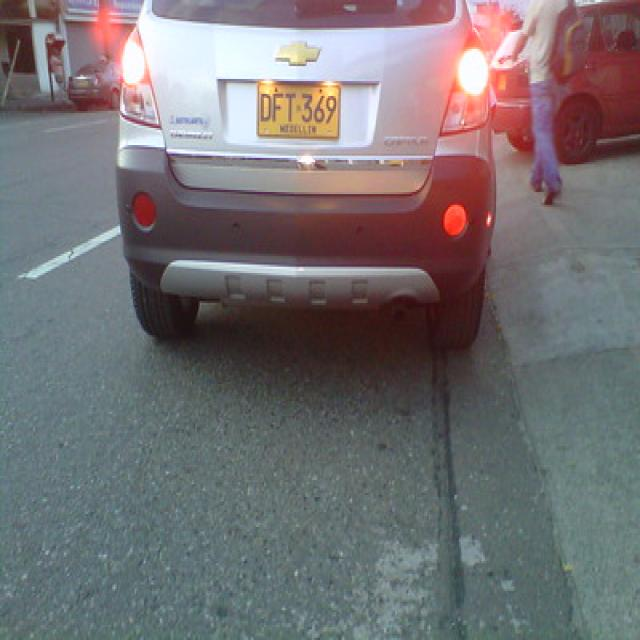placa_carro: (256, 78, 345, 142)
